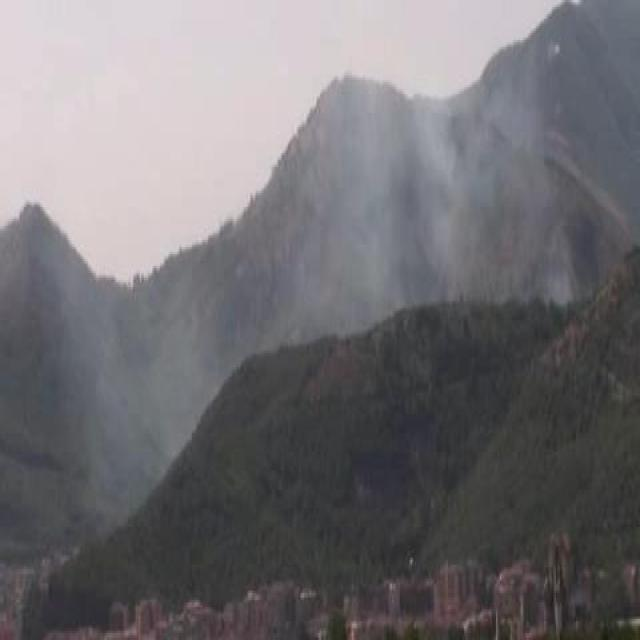Smoke: (312, 93, 512, 305)
